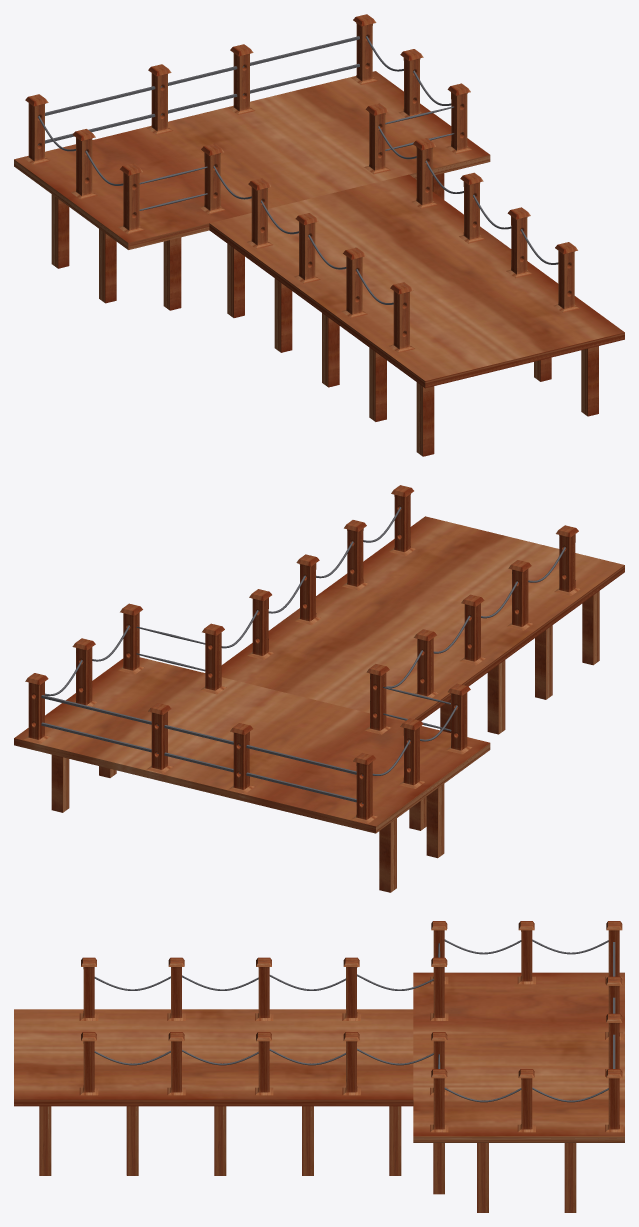
File: woodenpier.fbx
3 views of the same model, one above another, from view 1: azimuth 30°, elevation 25°; view 2: azimuth 150°, elevation 25°; view 3: azimuth 270°, elevation 25° (orthographic). The views are drawn at different scales.
Parts seen in each view (by area): view 1: pCube3, pCube59, pCube4, pCube57, pCube61, pCube79, pCube14, pCube77, pCube86, pCube65, pCube55, pCube58 (+18 smaller); view 2: pCube3, pCube56, pCube60, pCube81, pCube87, pCube55, pCube78, pCube4, pCube61, pCube70, pCube84, pCube79 (+15 smaller); view 3: pCube3, pCube63, pCube65, pCube66, pCube67, pCube69, pCube77, pCube84, pCube85, pCube80, pCube86, pCube75 (+15 smaller).
Boxes of the visible parts, box(x1,y1,x2,y2) form: pCube3: box(14, 71, 624, 388); pCube59: box(163, 237, 181, 310); pCube4: box(416, 382, 434, 456); pCube57: box(274, 278, 292, 352); pCube61: box(51, 194, 69, 268); pCube79: box(118, 163, 144, 234); pCube14: box(388, 282, 414, 352); pCube77: box(553, 242, 579, 312); pCube86: box(446, 83, 472, 154); pCube65: box(581, 346, 598, 416); pCube55: box(369, 347, 386, 421); pCube58: box(227, 244, 244, 317); pCube3: box(14, 516, 624, 833); pCube56: box(487, 660, 505, 734); pCube60: box(426, 784, 444, 858); pCube81: box(351, 753, 377, 823); pCube87: box(200, 623, 226, 694); pCube55: box(535, 625, 552, 699); pCube78: box(365, 664, 391, 734); pCube4: box(582, 591, 599, 665); pCube61: box(379, 818, 396, 892); pCube70: box(507, 560, 533, 630); pCube84: box(23, 673, 49, 743); pCube79: box(446, 683, 472, 754); pCube3: box(14, 972, 624, 1142); pCube63: box(564, 1143, 576, 1212); pCube65: box(39, 1106, 51, 1175); pCube66: box(126, 1106, 138, 1175); pCube67: box(214, 1106, 226, 1175); pCube69: box(389, 1106, 401, 1175); pCube77: box(79, 1032, 98, 1095); pCube84: box(605, 1069, 623, 1132); pCube85: box(517, 1069, 535, 1132); pCube80: box(517, 921, 535, 984); pCube86: box(430, 1069, 448, 1132); pCube75: box(255, 1032, 273, 1095).
Bounding box in the file's own units: 8.83 × 3.5 × 13.96.
6 materials, 6 textured.
